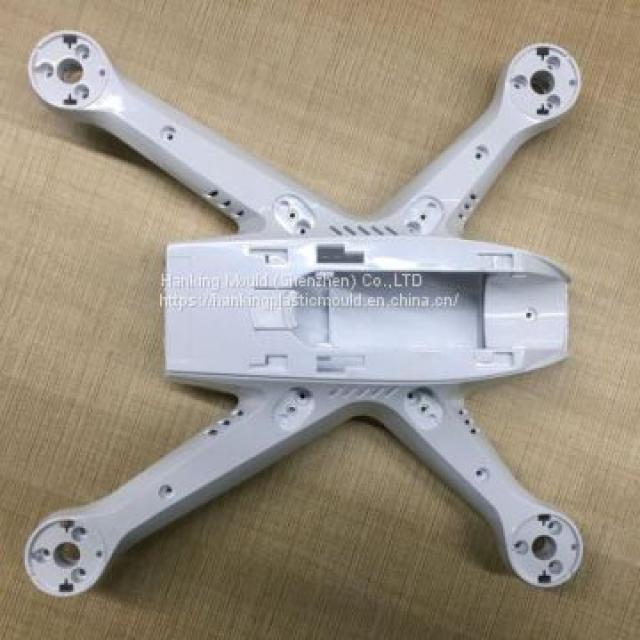drone: (12, 23, 622, 612)
